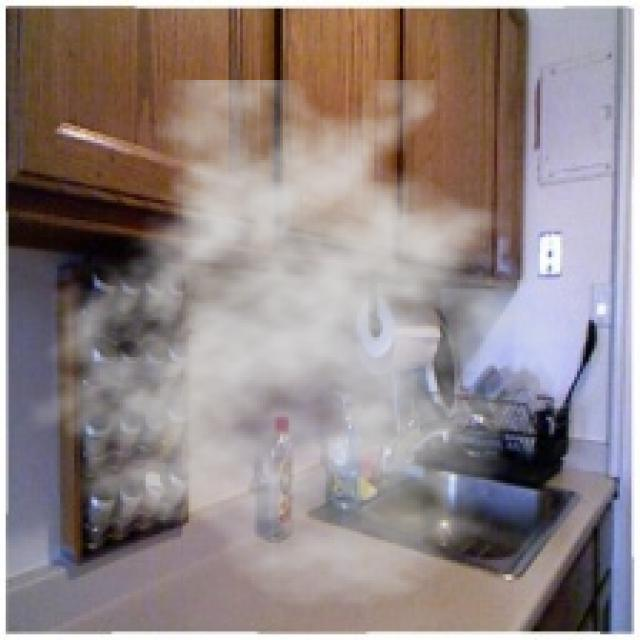smoke: (26, 80, 594, 609)
